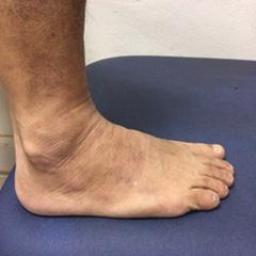Lateral View -Right Foot-: (1, 94, 243, 229)
